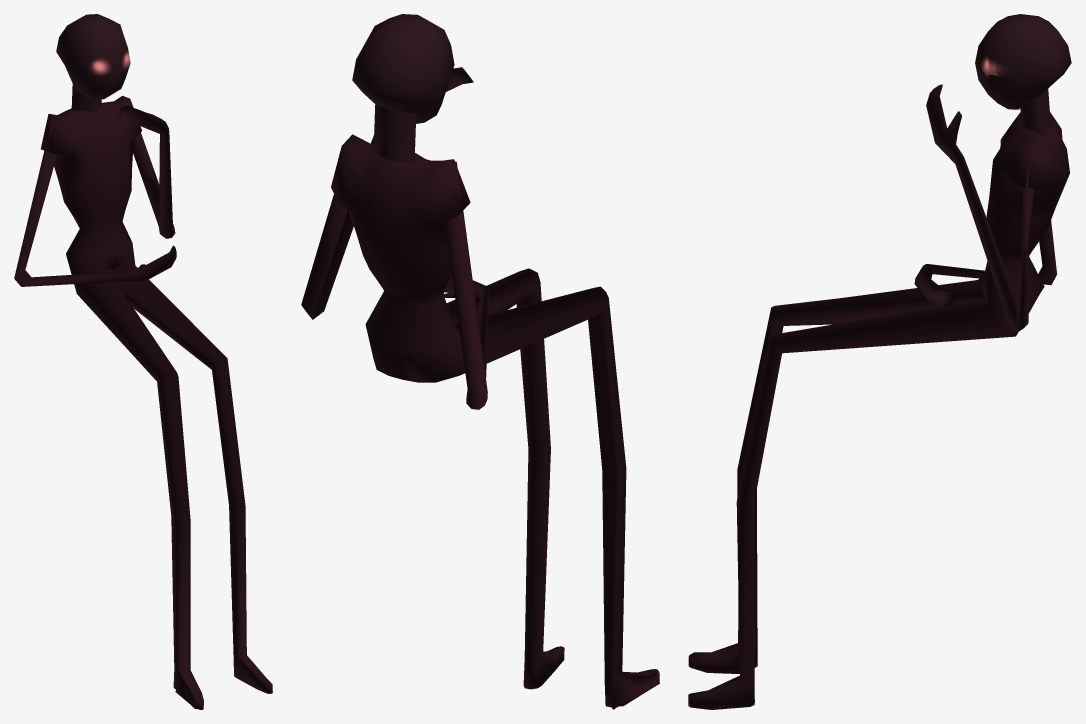
File: creepy_audience_gasping_export.fbx
3 renders of one model, left to right at view 1: azimuth 30°, elevation 25°; view 2: azimuth 150°, elevation 25°; view 3: azimuth 270°, elevation 25°, orthographic. The views are drawn at different scales.
Visible parts, largest first — view 1: audience body, audience head; view 2: audience body, audience head; view 3: audience body, audience head.
Part boxes in pixels (x1,y1,x2,y2): audience body: (14,84,272,709); audience head: (56,14,130,99); audience body: (301,67,659,709); audience head: (352,14,454,123); audience body: (688,84,1069,709); audience head: (975,14,1071,109).
Bounding box in the file's own units: 102 × 382 × 197.
